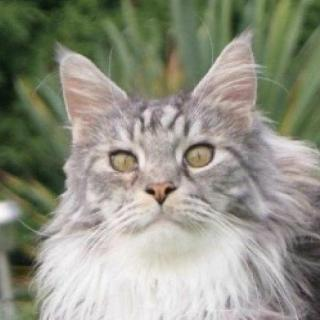cat: (48, 48, 269, 246)
nose: (136, 167, 182, 205)
